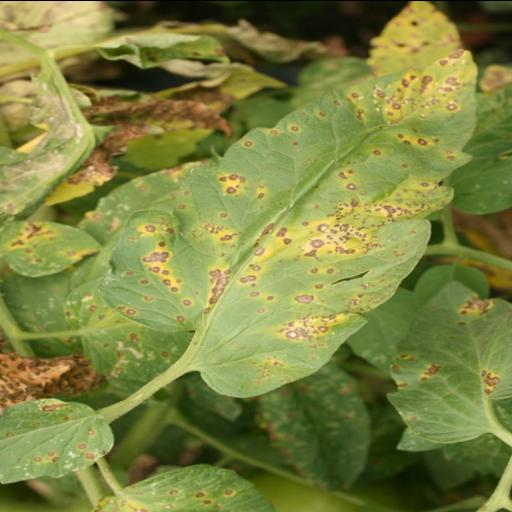Septoria: (98, 46, 484, 399), (382, 278, 512, 440), (0, 396, 115, 484), (86, 462, 277, 512), (0, 218, 103, 280)
